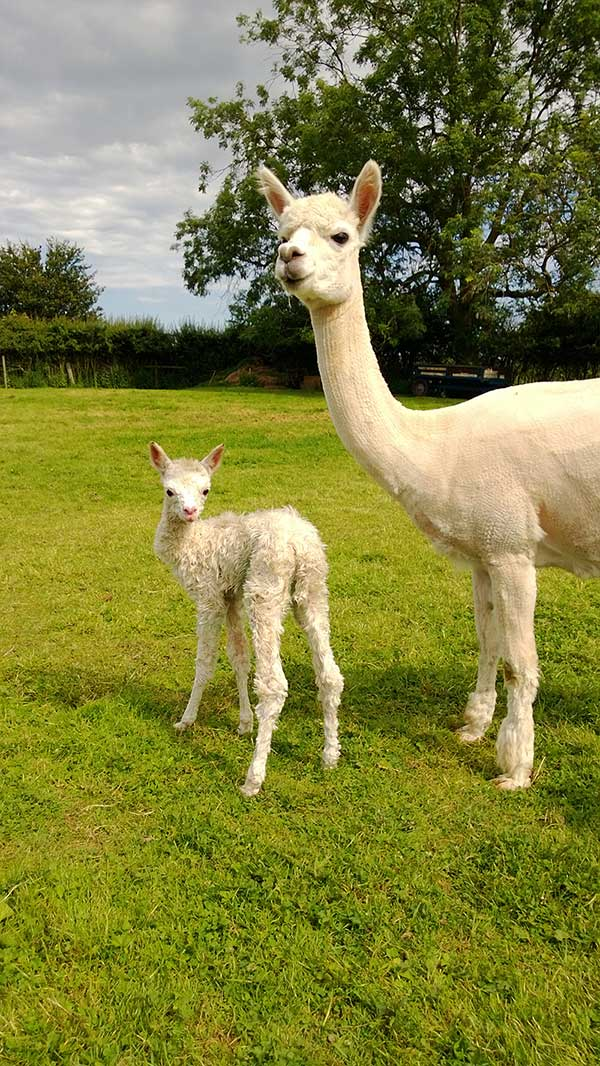alpaca: (254, 156, 600, 788), (146, 437, 342, 795)
